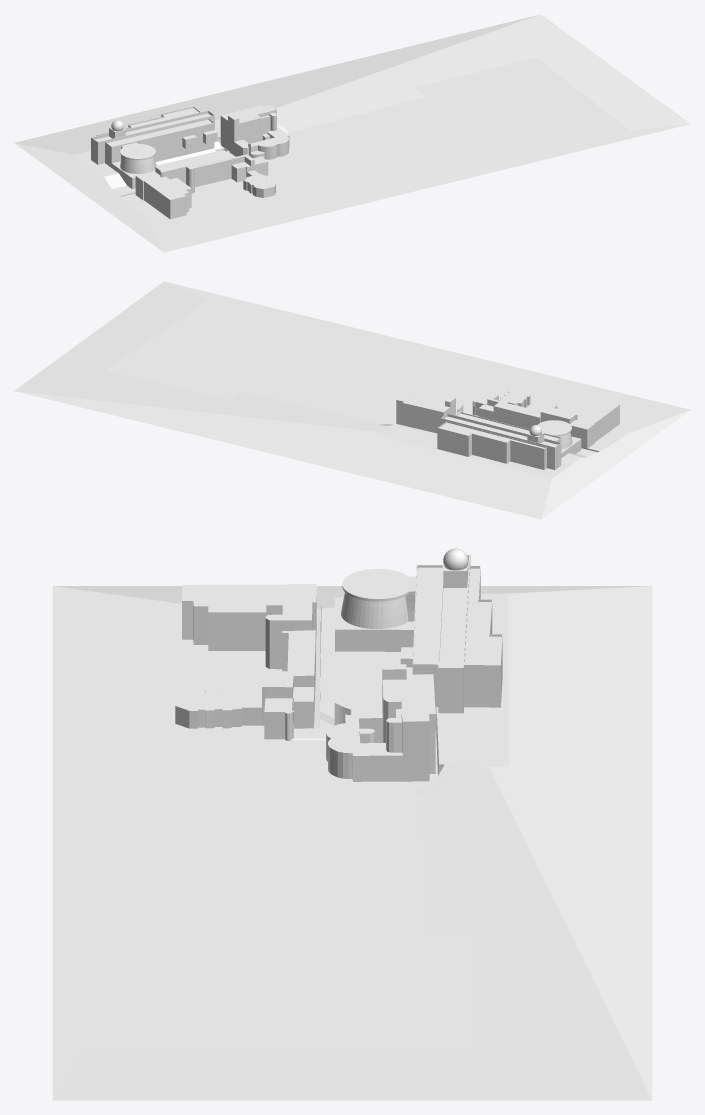
3 renders of one model, top to bottom at view 1: azimuth 30°, elevation 25°; view 2: azimuth 150°, elevation 25°; view 3: azimuth 270°, elevation 25°, orthographic. The views are drawn at different scales.
Parts seen in each view (by area): view 1: 全景图4K-1; view 2: 全景图4K-1; view 3: 全景图4K-1.
Part boxes in pixels (x1,y1,x2,y2): 全景图4K-1: [14, 14, 690, 252]; 全景图4K-1: [14, 281, 690, 519]; 全景图4K-1: [52, 548, 652, 1100].
Size of the model in its own units: 464 by 37.7 by 229.
1 material, 1 textured.
